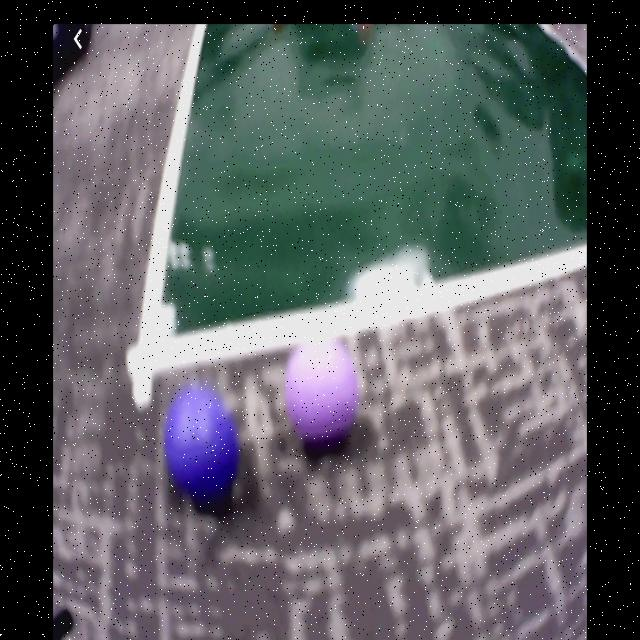ball: (166, 379, 243, 498), (287, 332, 354, 446)
